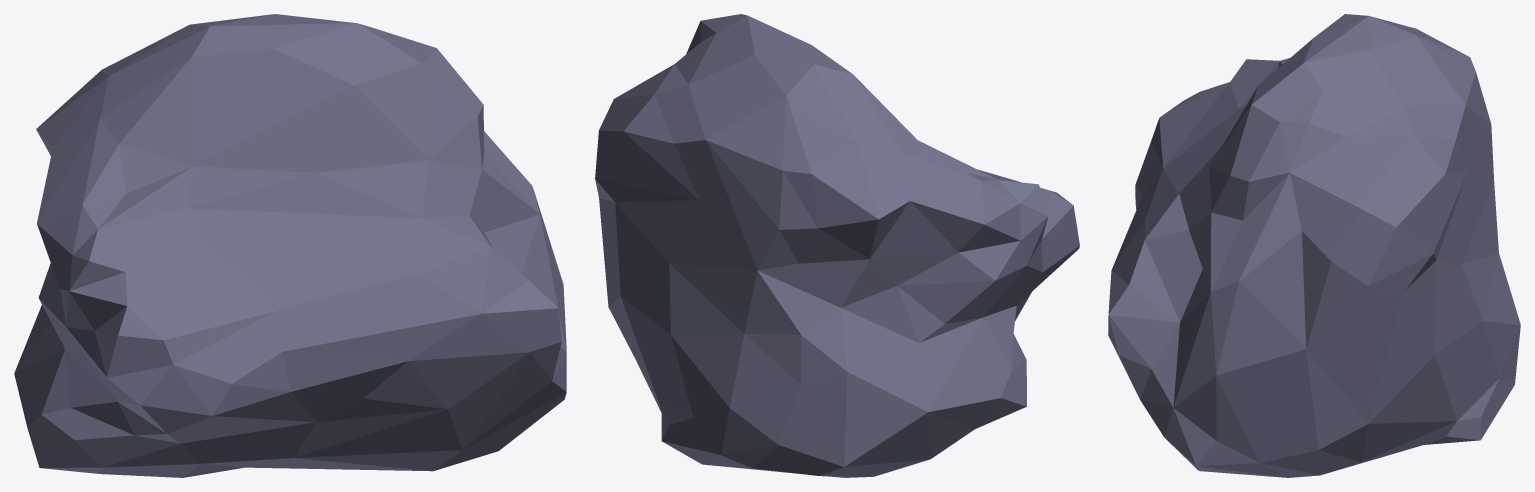
The model's file is Daş.fbx.
The picture shows the model from 3 angles, left to right: view 1: azimuth 30°, elevation 25°; view 2: azimuth 150°, elevation 25°; view 3: azimuth 270°, elevation 25°; orthographic projection. The views are drawn at different scales.
Visible parts, largest first — view 1: Small Bare Tree.007; view 2: Small Bare Tree.007; view 3: Small Bare Tree.007.
Part boxes in pixels (x1,y1,x2,y2): Small Bare Tree.007: (14, 14, 566, 477); Small Bare Tree.007: (595, 14, 1079, 477); Small Bare Tree.007: (1108, 14, 1520, 477).
Bounding box in the file's own units: 0.7114 × 0.633 × 0.5857.
